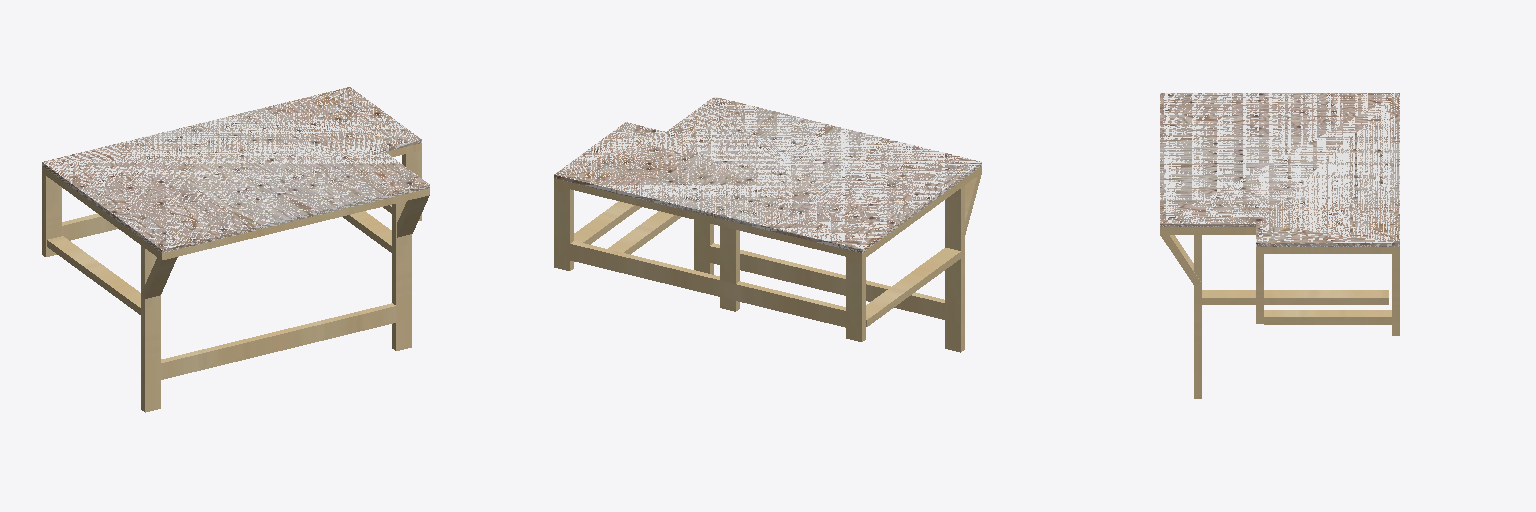
The picture shows the model from 3 angles: view 1: azimuth 30°, elevation 25°; view 2: azimuth 150°, elevation 25°; view 3: azimuth 270°, elevation 25°; orthographic projection.
Parts seen in each view (by area): view 1: mesh7_mesh7-geometry, mesh1_mesh1-geometry, mesh3_mesh3-geometry, mesh5_mesh5-geometry, mesh8_mesh8-geometry; view 2: mesh7_mesh7-geometry, mesh1_mesh1-geometry, mesh3_mesh3-geometry, mesh5_mesh5-geometry, mesh8_mesh8-geometry; view 3: mesh7_mesh7-geometry, mesh3_mesh3-geometry, mesh5_mesh5-geometry.
Boxes of the visible parts, x1,y1,x2,y2 form: mesh7_mesh7-geometry: [42, 87, 429, 252]; mesh1_mesh1-geometry: [42, 143, 429, 379]; mesh3_mesh3-geometry: [47, 173, 429, 314]; mesh5_mesh5-geometry: [42, 150, 421, 350]; mesh8_mesh8-geometry: [141, 246, 160, 412]; mesh7_mesh7-geometry: [554, 97, 981, 252]; mesh1_mesh1-geometry: [554, 166, 981, 327]; mesh3_mesh3-geometry: [574, 173, 981, 326]; mesh5_mesh5-geometry: [554, 186, 865, 341]; mesh8_mesh8-geometry: [945, 186, 964, 352]; mesh7_mesh7-geometry: [1160, 93, 1399, 246]; mesh3_mesh3-geometry: [1160, 227, 1391, 324]; mesh5_mesh5-geometry: [1194, 235, 1399, 398].
Bounding box in the file's own units: 0.7556 × 0.4109 × 0.5101.
4 materials, 2 textured.